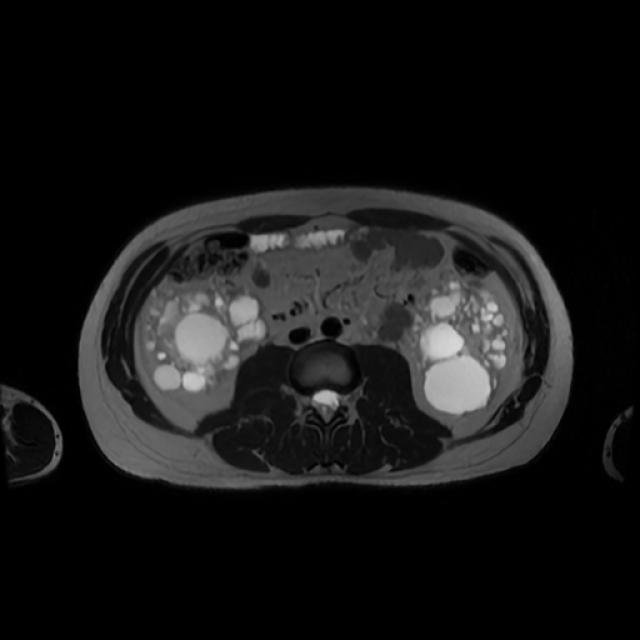sag: (146, 291, 270, 394)
sol: (417, 279, 509, 416)
